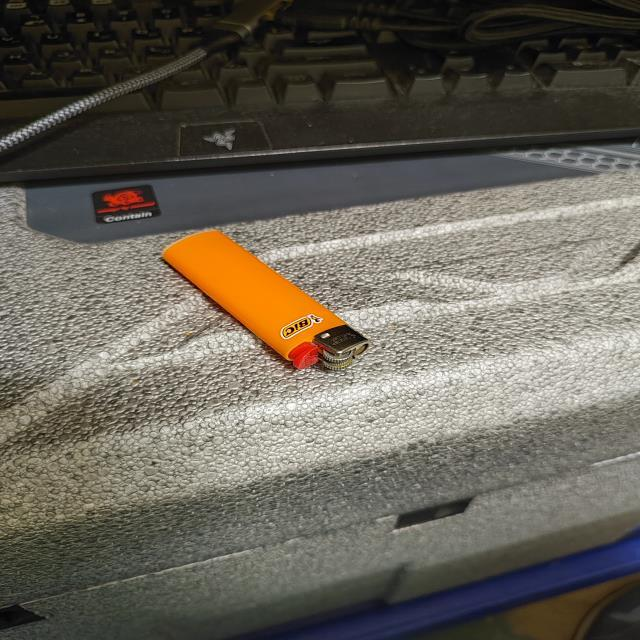lighter: (162, 232, 368, 369)
